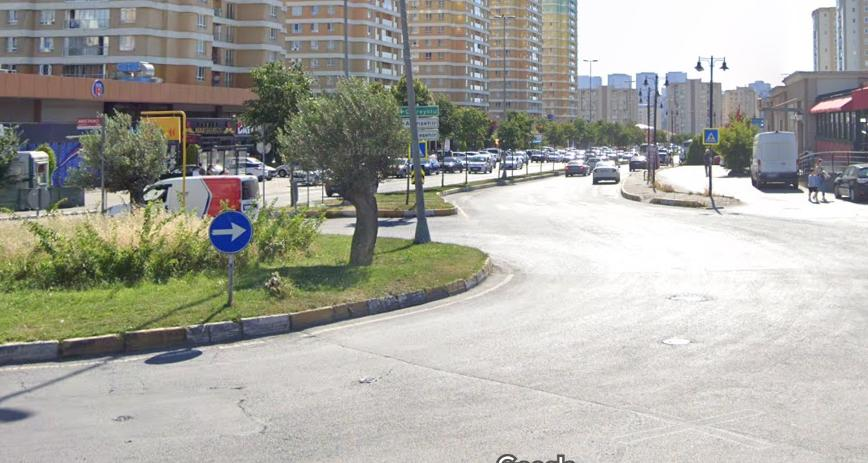turnright: (207, 209, 261, 257)
